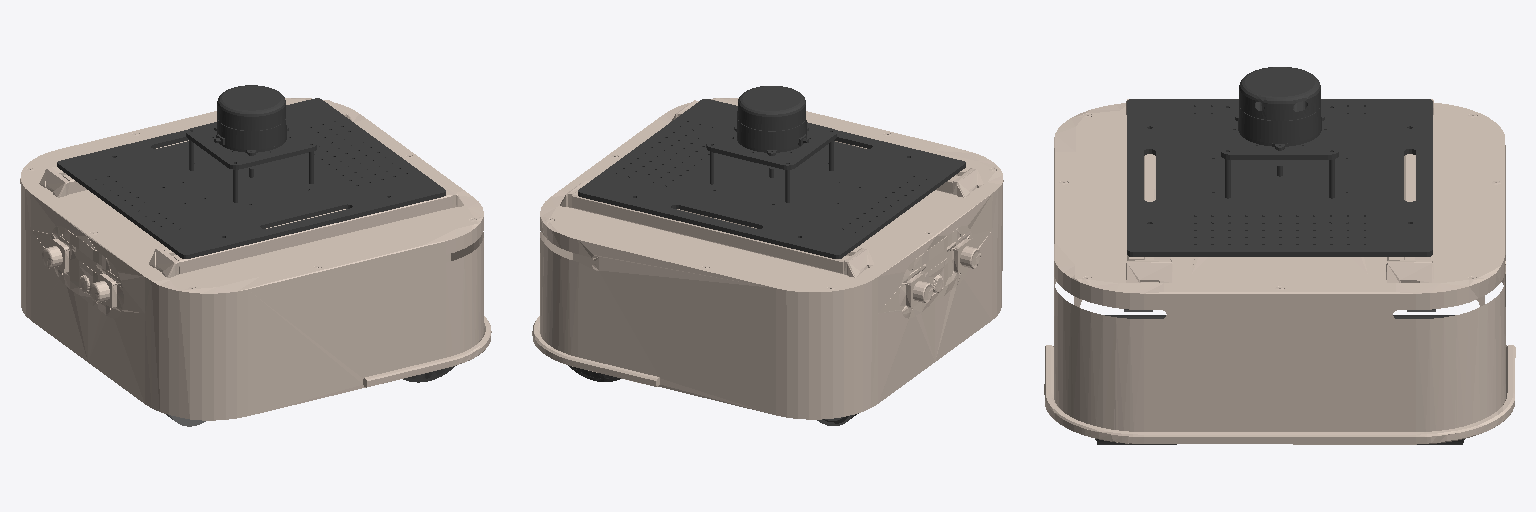
URDF robot description (tracer_mini):
<?xml version="1.0" ?>

<robot name="tracer_mini" xmlns:xacro="http://ros.org/wiki/xacro">
    
    <material name="black">
      <color rgba="0.0 0.0 0.0 1.0"/>
  </material>

  <material name="dark">
    <color rgba="0.3 0.3 0.3 1.0"/>
  </material>

  <material name="light_black">
    <color rgba="0.4 0.4 0.4 1.0"/>
  </material>

  <material name="blue">
    <color rgba="0.0 0.0 0.8 1.0"/>
  </material>

  <material name="green">
    <color rgba="0.0 0.8 0.0 1.0"/>
  </material>

  <material name="grey">
    <color rgba="0.5 0.5 0.5 1.0"/>
  </material>

  <material name="orange">
    <color rgba="1.0 0.4235 0.0392 1.0"/>
  </material>

  <material name="brown">
    <color rgba="0.8706 0.8118 0.7647 1.0"/>
  </material>

  <material name="red">
    <color rgba="0.8 0.0 0.0 1.0"/>
  </material>

  <material name="white">
    <color rgba="1.0 1.0 1.0 1.0"/>
  </material>

  <link name="base_footprint"/>
  
  <joint name="base_joint" type="fixed">
    <parent link="base_footprint"/>
    <child link="base_link"/>
    <origin xyz="-0.122 -0.0 0.01564" rpy="0 0 0"/>
  </joint>

  <link name="base_link">
    <inertial>
      <origin
        xyz="0.0159871268556407 1.58872275333177E-05 -0.0309422377248268"
        rpy="0 0 0" />
      <mass
        value="24.3948952632956" />
      <inertia
        ixx="0.330322675681357"
        ixy="-8.93178579768822E-06"
        ixz="0.010552102579657"
        iyy="0.327495768676369"
        iyz="1.4143030767649E-06"
        izz="0.614434971559817" />
    </inertial>
    <visual>
      <origin xyz="0.0 0.0 0.0" rpy="0 0 1.57"/>
      <geometry>
          <mesh filename="package://tracer_description/meshes/base/base.stl"/>
      </geometry>
      <material name="brown"/>
    </visual>
    <collision>
      <origin xyz="0.0 0 0.0" rpy="0 0 1.57"/>
      <geometry>
        <mesh filename="package://tracer_description/meshes/base/base.stl"/>
      </geometry>
    </collision>
  </link>

  <link name="wheel_left_link">
    <inertial>
      <origin
        xyz="-0.11068 0.066655 0.10537" rpy="0 1.57 0" />
      <mass value="17.416" />
      <inertia
        ixx="0.24331"
        ixy="0.010574"
        ixz="8.9424E-06"
        iyy="0.43808"
        iyz="-1.4143E-06"
        izz="0.2374" />
    </inertial>
    <visual>
      <origin xyz="0.0 0.0 0.0" rpy="0 1.57 0"/>
      <geometry>
          <mesh filename="package://tracer_description/meshes/base/mob_wheel.stl" />
      </geometry>
      <material name="dark"/>
    </visual>
    <collision>
      <origin xyz="0.0 0.0 0.0" rpy="0 1.57 0"/>
      <geometry>
        <mesh
          filename="package://tracer_description/meshes/base/mob_wheel.stl" />
      </geometry>
    </collision>
  </link>

  <joint name="wheel_left_joint" type="continuous">
    <parent link="base_link"/>
    <child link="wheel_left_link"/>
    <origin xyz="0.122 0.1265 0.04186" rpy="-1.57 0 0"/>
    <axis xyz="0 0 1"/>
  </joint>
  
  <joint name="wheel_right_joint" type="continuous">
    <parent link="base_link"/>
    <child link="wheel_right_link"/>
    <origin xyz="0.122 -0.1265 0.04186" rpy="-1.57 0 0"/>
    <axis xyz="0 0 1"/>
  </joint>

  <link name="wheel_right_link">
    <inertial>
      <origin
        xyz="-0.11068 0.066655 -0.10543" rpy="0 1.57 0" />
      <mass value="17.416" />
      <inertia
        ixx="0.24331"
        ixy="0.010574"
        ixz="8.9424E-06"
        iyy="0.43808"
        iyz="-1.4143E-06"
        izz="0.2374" />
    </inertial>
    <visual>
        <origin xyz="0.0 0.0 0.0" rpy="0 1.57 0"/>
        <geometry>
            <mesh filename="package://tracer_description/meshes/base/mob_wheel.stl" />
        </geometry>
        <material name="dark"/>
    </visual>
    <collision>
        <origin xyz="0 0 0" rpy="0 1.57 0"/>
      <geometry>
        <mesh
          filename="package://tracer_description/meshes/base/mob_wheel.stl" />
      </geometry>
    </collision>
  </link>

  <joint name="caster_left_joint" type="fixed">
    <parent link="base_link"/>
    <child link="caster_left_link"/>
    <origin xyz="-0.12075 0.125 0.07514" rpy="0 0 0"/>
  </joint>

  <link name="caster_left_link">
    <visual>
        <origin xyz="0 0.0 0.0" rpy="0 0 1.57"/>
        <geometry>
            <mesh filename="package://tracer_description/meshes/base/caster.stl" />
        </geometry>
        <material name="dark"/>
    </visual>
    <collision>
      <origin xyz="0 0.0 0.0" rpy="0 0 1.57"/>
      <geometry>
        <mesh
          filename="package://tracer_description/meshes/base/caster.stl" />
      </geometry>
    </collision>
  </link>

  <joint name="caster_right_joint" type="fixed">
    <parent link="base_link"/>
    <child link="caster_right_link"/>
    <origin xyz="-0.12075 -0.125 0.07514" rpy="0 0 0"/>
  </joint>

  <link name="caster_right_link">
    <visual>
        <origin xyz="0 0 0.0" rpy="0 0 1.57"/>
        <geometry>
            <mesh filename="package://tracer_description/meshes/base/caster.stl" />
        </geometry>
        <material name="dark"/>
    </visual>
    <collision>
      <origin xyz="0 0 0.0" rpy="0 0 1.57"/>
      <geometry>
        <mesh
          filename="package://tracer_description/meshes/base/caster.stl" />
      </geometry>
    </collision>
  </link>

  <joint name="caster_l_joint" type="continuous">
    <parent link="base_link"/>
    <child link="caster_l_Link"/>
    <origin xyz="-0.14755 -0.125 0.01814" rpy="1.57 0 0"/>
    <axis xyz="0 0 -1"/>
  </joint>
    
  <link name="caster_l_Link">
    <inertial>
      <origin xyz="0.14232 0.089655 0.12497" rpy="0 0 0" />
      <mass value="17.416" />
      <inertia
        ixx="0.24331"
        ixy="0.010574"
        ixz="8.9424E-06"
        iyy="0.43808"
        iyz="-1.4143E-06"
        izz="0.2374" />
    </inertial>
    <visual>
      <origin xyz="0.0 0.0 0.0" rpy="0 0 0" />
      <geometry>
        <cylinder radius="0.0325" length="0.025"/>
      </geometry>
      <material name="grey"/>
    </visual>
    <collision>
      <origin
        xyz="0 0 0"
        rpy="0 0 0" />
      <geometry>
        <cylinder radius="0.0325" length="0.025"/>
      </geometry>
    </collision>
  </link>

  
  <joint name="caster_r_joint" type="continuous">
    <parent link="base_link"/>
    <child link="caster_r_link"/>
    <origin xyz="-0.14755 0.125 0.01814" rpy="1.57 0 0"/>
    <axis xyz="0 0 -1"/>
  </joint>

  <link name="caster_r_link">
    <visual>
      <origin xyz="0 0 0" rpy="0 0 0"/>
      <geometry>
        <cylinder length="0.025" radius="0.0325"/>
      </geometry>
      <material name="grey"/>
    </visual>

    <collision>
      <origin xyz="0 0 0" rpy="0 0 0"/>
      <geometry>
        <cylinder length="0.025" radius="0.0325"/>
      </geometry>
    </collision>

    <inertial>
      <origin xyz="0 0 0" rpy="0 0 0" />
      <mass value="17.416" />
      <inertia ixx="0.24331" ixy="0.010574" ixz="8.9424E-06" iyy="0.43808" iyz="-1.4143E-06" izz="0.2374" />
    </inertial>
  </link>

  <joint name="first_f" type="fixed">
    <parent link="base_link"/>
    <child link="first_floor"/>
    <origin xyz="0 0 0.17964" rpy="0 0 0"/>
  </joint>

  <link name="first_floor">
    <visual>
        <origin xyz="0 0 0" rpy="0 0 -1.57"/>
        <geometry>
            <mesh filename="package://tracer_description/meshes/base/first.stl" />
        </geometry>
        <material name="dark"/>
    </visual>
    <collision>
      <origin xyz="0 0 0" rpy="0 0 -1.57"/>
      <geometry>
        <mesh
          filename="package://tracer_description/meshes/base/first.stl" />
      </geometry>
    </collision>
  </link>

  <joint name="imu_joint" type="fixed">
    <parent link="first_floor"/>
    <child link="imu_link"/>
    <origin xyz="0 0 0.01" rpy="0 0 0"/>
  </joint>

  <link name="imu_link">
    <visual>
        <origin xyz="0 0 0" rpy="0 0 0"/>
        <geometry>
          <cylinder length="0.01" radius="0.0025"/>
        </geometry>
        <material name="dark"/>
    </visual>
    <collision>
      <origin xyz="0 0 0" rpy="0 0 0"/>
      <geometry>
        <cylinder length="0.01" radius="0.0025"/>
      </geometry>
    </collision>
  </link>

  <joint name="1st_suppoter" type="fixed">
    <parent link="first_floor"/>
    <child link="first_suppoter"/>
    <origin xyz="0.046 0.046 0.005" rpy="0 0 0"/>
  </joint>

  <link name="first_suppoter">
    <visual>
        <origin xyz="0 0 0.02" rpy="0 0 0"/>
        <geometry>
          <cylinder length="0.04" radius="0.0025"/>
        </geometry>
        <material name="dark"/>
    </visual>
    <collision>
      <origin xyz="0 0 0.02" rpy="0 0 0"/>
      <geometry>
        <cylinder length="0.04" radius="0.0025"/>
      </geometry>
    </collision>
  </link>

  <joint name="2nd_suppoter" type="fixed">
    <parent link="first_floor"/>
    <child link="second_suppoter"/>
    <origin xyz="0.046 -0.046 0.005" rpy="0 0 0"/>
  </joint>

  <link name="second_suppoter">
    <visual>
        <origin xyz="0 0 0.02" rpy="0 0 0"/>
        <geometry>
          <cylinder length="0.04" radius="0.0025"/>
        </geometry>
        <material name="dark"/>
    </visual>
    <collision>
      <origin xyz="0 0 0.02" rpy="0 0 0"/>
      <geometry>
        <cylinder length="0.04" radius="0.0025"/>
      </geometry>
    </collision>
  </link>

  <joint name="3rd_suppoter" type="fixed">
    <parent link="first_floor"/>
    <child link="third_suppoter"/>
    <origin xyz="-0.046 0.046 0.005" rpy="0 0 0"/>
  </joint>

  <link name="third_suppoter">
    <visual>
        <origin xyz="0 0 0.02" rpy="0 0 0"/>
        <geometry>
          <cylinder length="0.04" radius="0.0025"/>
        </geometry>
        <material name="dark"/>
    </visual>
    <collision>
      <origin xyz="0 0 0.02" rpy="0 0 0"/>
      <geometry>
        <cylinder length="0.04" radius="0.0025"/>
      </geometry>
    </collision>
  </link>

  <joint name="4th_suppoter" type="fixed">
    <parent link="first_floor"/>
    <child link="forth_suppoter"/>
    <origin xyz="-0.046 -0.046 0.005" rpy="0 0 0"/>
  </joint>

  <link name="forth_suppoter">
    <visual>
        <origin xyz="0 0 0.02" rpy="0 0 0"/>
        <geometry>
          <cylinder length="0.04" radius="0.0025"/>
        </geometry>
        <material name="dark"/>
    </visual>
    <collision>
      <origin xyz="0 0 0.02" rpy="0 0 0"/>
      <geometry>
        <cylinder length="0.04" radius="0.0025"/>
      </geometry>
    </collision>
  </link>

  <joint name="2nd_floor" type="fixed">
    <parent link="first_floor"/>
    <child link="second_floor"/>
    <origin xyz="0 0 0.045" rpy="0 0 0"/>
  </joint>

  <link name="second_floor">
    <visual>
        <origin xyz="0 0 0" rpy="0 0 0"/>
        <geometry>
            <mesh filename="package://tracer_description/meshes/base/second.stl" />
        </geometry>
        <material name="dark"/>
    </visual>
    <collision>
      <origin xyz="0 0 0" rpy="0 0 0"/>
      <geometry>
        <mesh
          filename="package://tracer_description/meshes/base/second.stl" />
      </geometry>
    </collision>
  </link>

  <joint name="lidar" type="fixed">
    <parent link="base_link"/>
    <child link="base_scan"/>
    <origin xyz="0 0 0.22964" rpy="0 0 0"/>
  </joint>

  <link name="base_scan">
    <visual>
        <origin xyz="0 0 0" rpy="0 0 0"/>
        <geometry>
            <mesh filename="package://tracer_description/meshes/sensor/ydlidar_g2.stl" />
        </geometry>
        <material name="dark"/>
    </visual>
    <collision>
      <origin xyz="0 0 0" rpy="0 0 0"/>
      <geometry>
        <mesh
          filename="package://tracer_description/meshes/sensor/ydlidar_g2.stl" />
      </geometry>
    </collision>
  </link>
</robot>

--- Facts derived from the render (not from the file) ---
Views: 3 orthographic renders of the robot side by side, from view 1: azimuth 30°, elevation 25°; view 2: azimuth 150°, elevation 25°; view 3: azimuth 270°, elevation 25°.
Model tracer_mini with 16 links and 15 joints (4 continuous, 11 fixed), rooted at base_footprint, posed every joint at zero.
Visible links, largest first — view 1: base_link, first_floor, base_scan, second_floor; view 2: base_link, first_floor, base_scan, second_floor; view 3: base_link, first_floor, base_scan, second_floor.
Boxes of the visible links, x1=… form: base_link: x1=20, y1=98, x2=491, y2=420; first_floor: x1=57, y1=98, x2=445, y2=258; base_scan: x1=214, y1=85, x2=288, y2=155; second_floor: x1=186, y1=120, x2=316, y2=169; base_link: x1=532, y1=98, x2=1003, y2=419; first_floor: x1=578, y1=99, x2=965, y2=258; base_scan: x1=734, y1=86, x2=808, y2=155; second_floor: x1=706, y1=121, x2=836, y2=169; base_link: x1=1044, y1=99, x2=1515, y2=444; first_floor: x1=1127, y1=99, x2=1432, y2=256; base_scan: x1=1235, y1=67, x2=1324, y2=150; second_floor: x1=1221, y1=104, x2=1338, y2=159.
Size in the robot's own frame: 0.4276 by 0.4161 by 0.2913 metres.
8 mesh visuals loaded from 6 distinct referenced files (6 binary STL).
